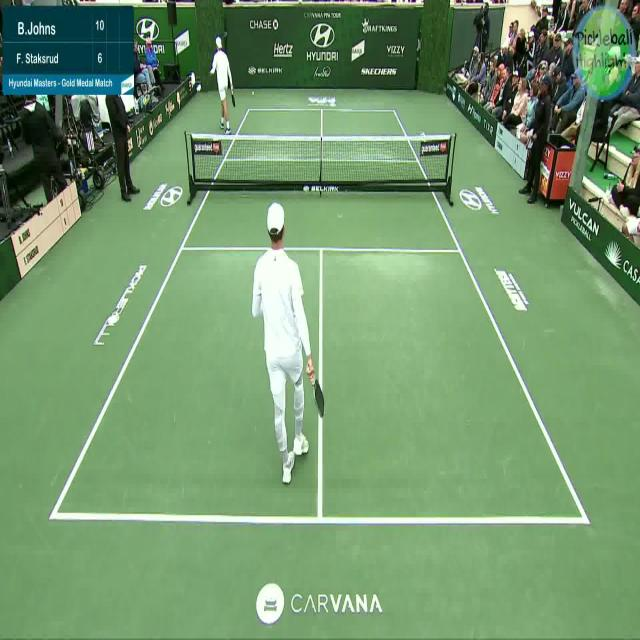ball: (251, 88, 255, 97)
